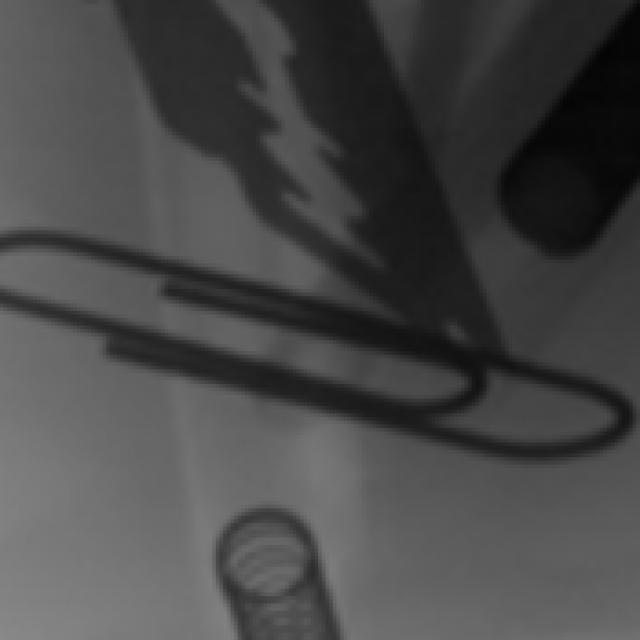BLADE: (124, 1, 509, 392)
